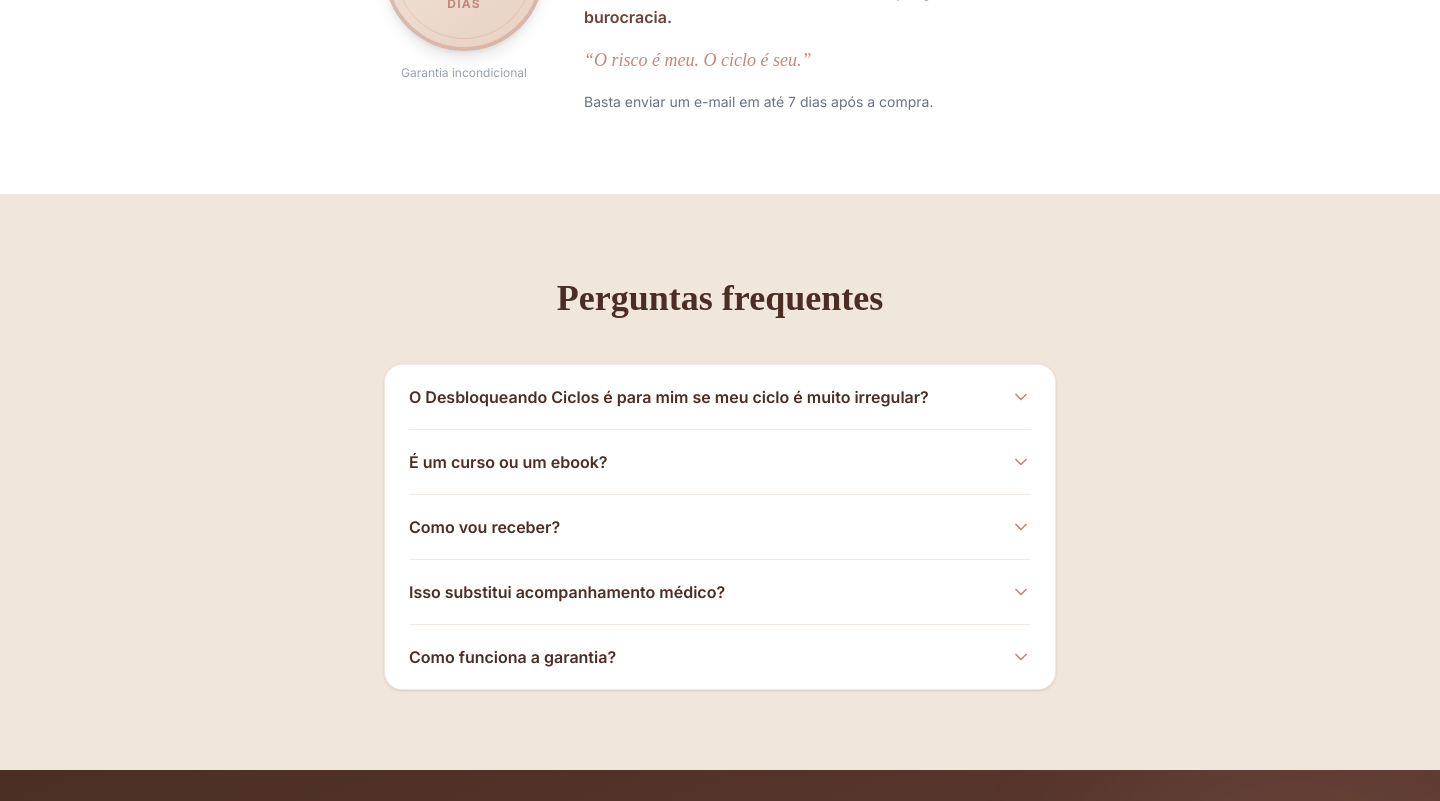
it: DesbloqueandoCiclosPage › abre e fecha uma pergunta do FAQ ao clicar
(page scrolled)
Click the button "Desbloqueando Ciclos é para mim" at [720, 396], box x1=409 y1=364 x2=1031 y2=428
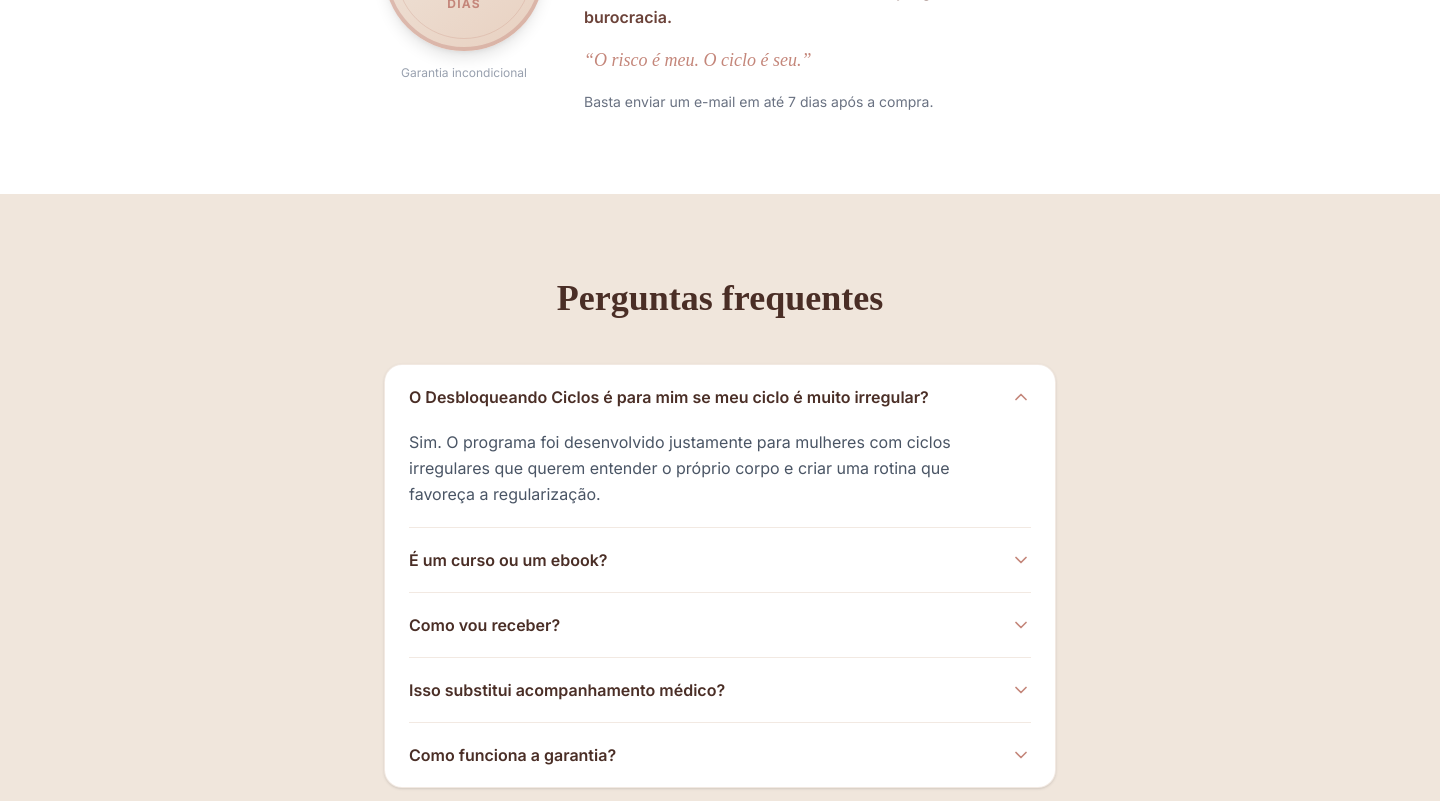
expect the button "Desbloqueando Ciclos é para mim" is expanded: met, box x1=409 y1=364 x2=1031 y2=428
